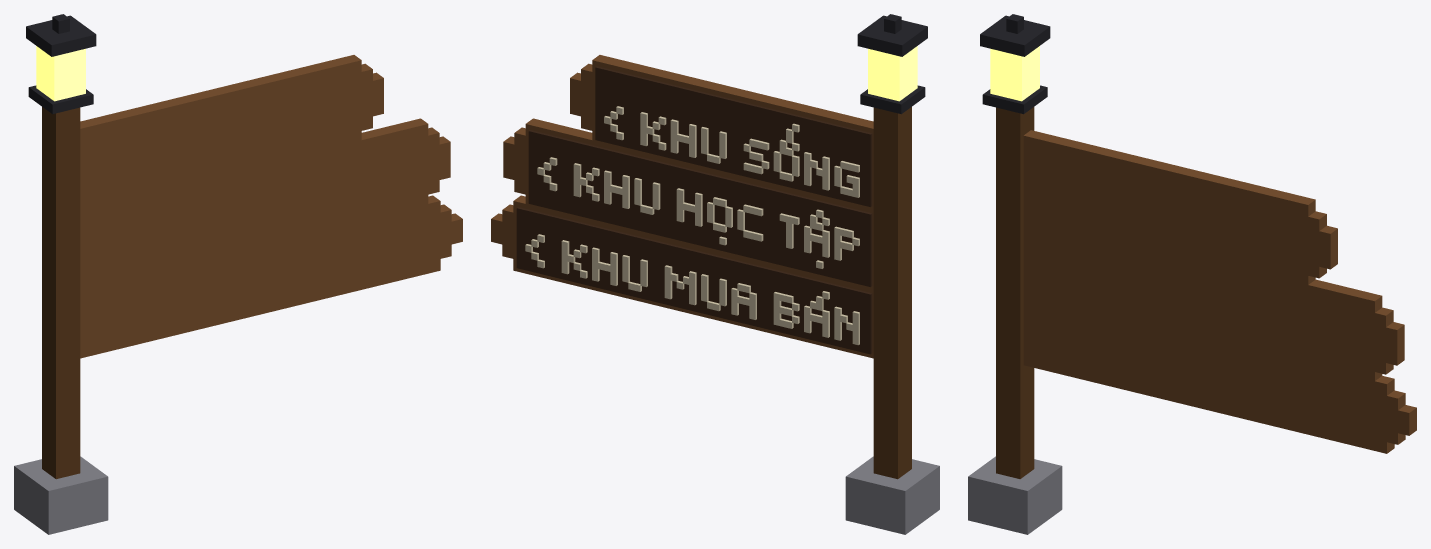
Rendered from tt-signpost-west.glb.
The picture shows the model from 3 angles, left to right: view 1: azimuth 30°, elevation 25°; view 2: azimuth 150°, elevation 25°; view 3: azimuth 330°, elevation 25°; orthographic projection.
Visible parts, largest first — view 1: box-prop; view 2: box-prop; view 3: box-prop.
Part boxes in pixels (x1,y1,x2,y2): box-prop: [14, 14, 462, 534]; box-prop: [491, 14, 939, 534]; box-prop: [968, 14, 1416, 534].
Size of the model in its own units: 4.59 by 5.1 by 0.64.
